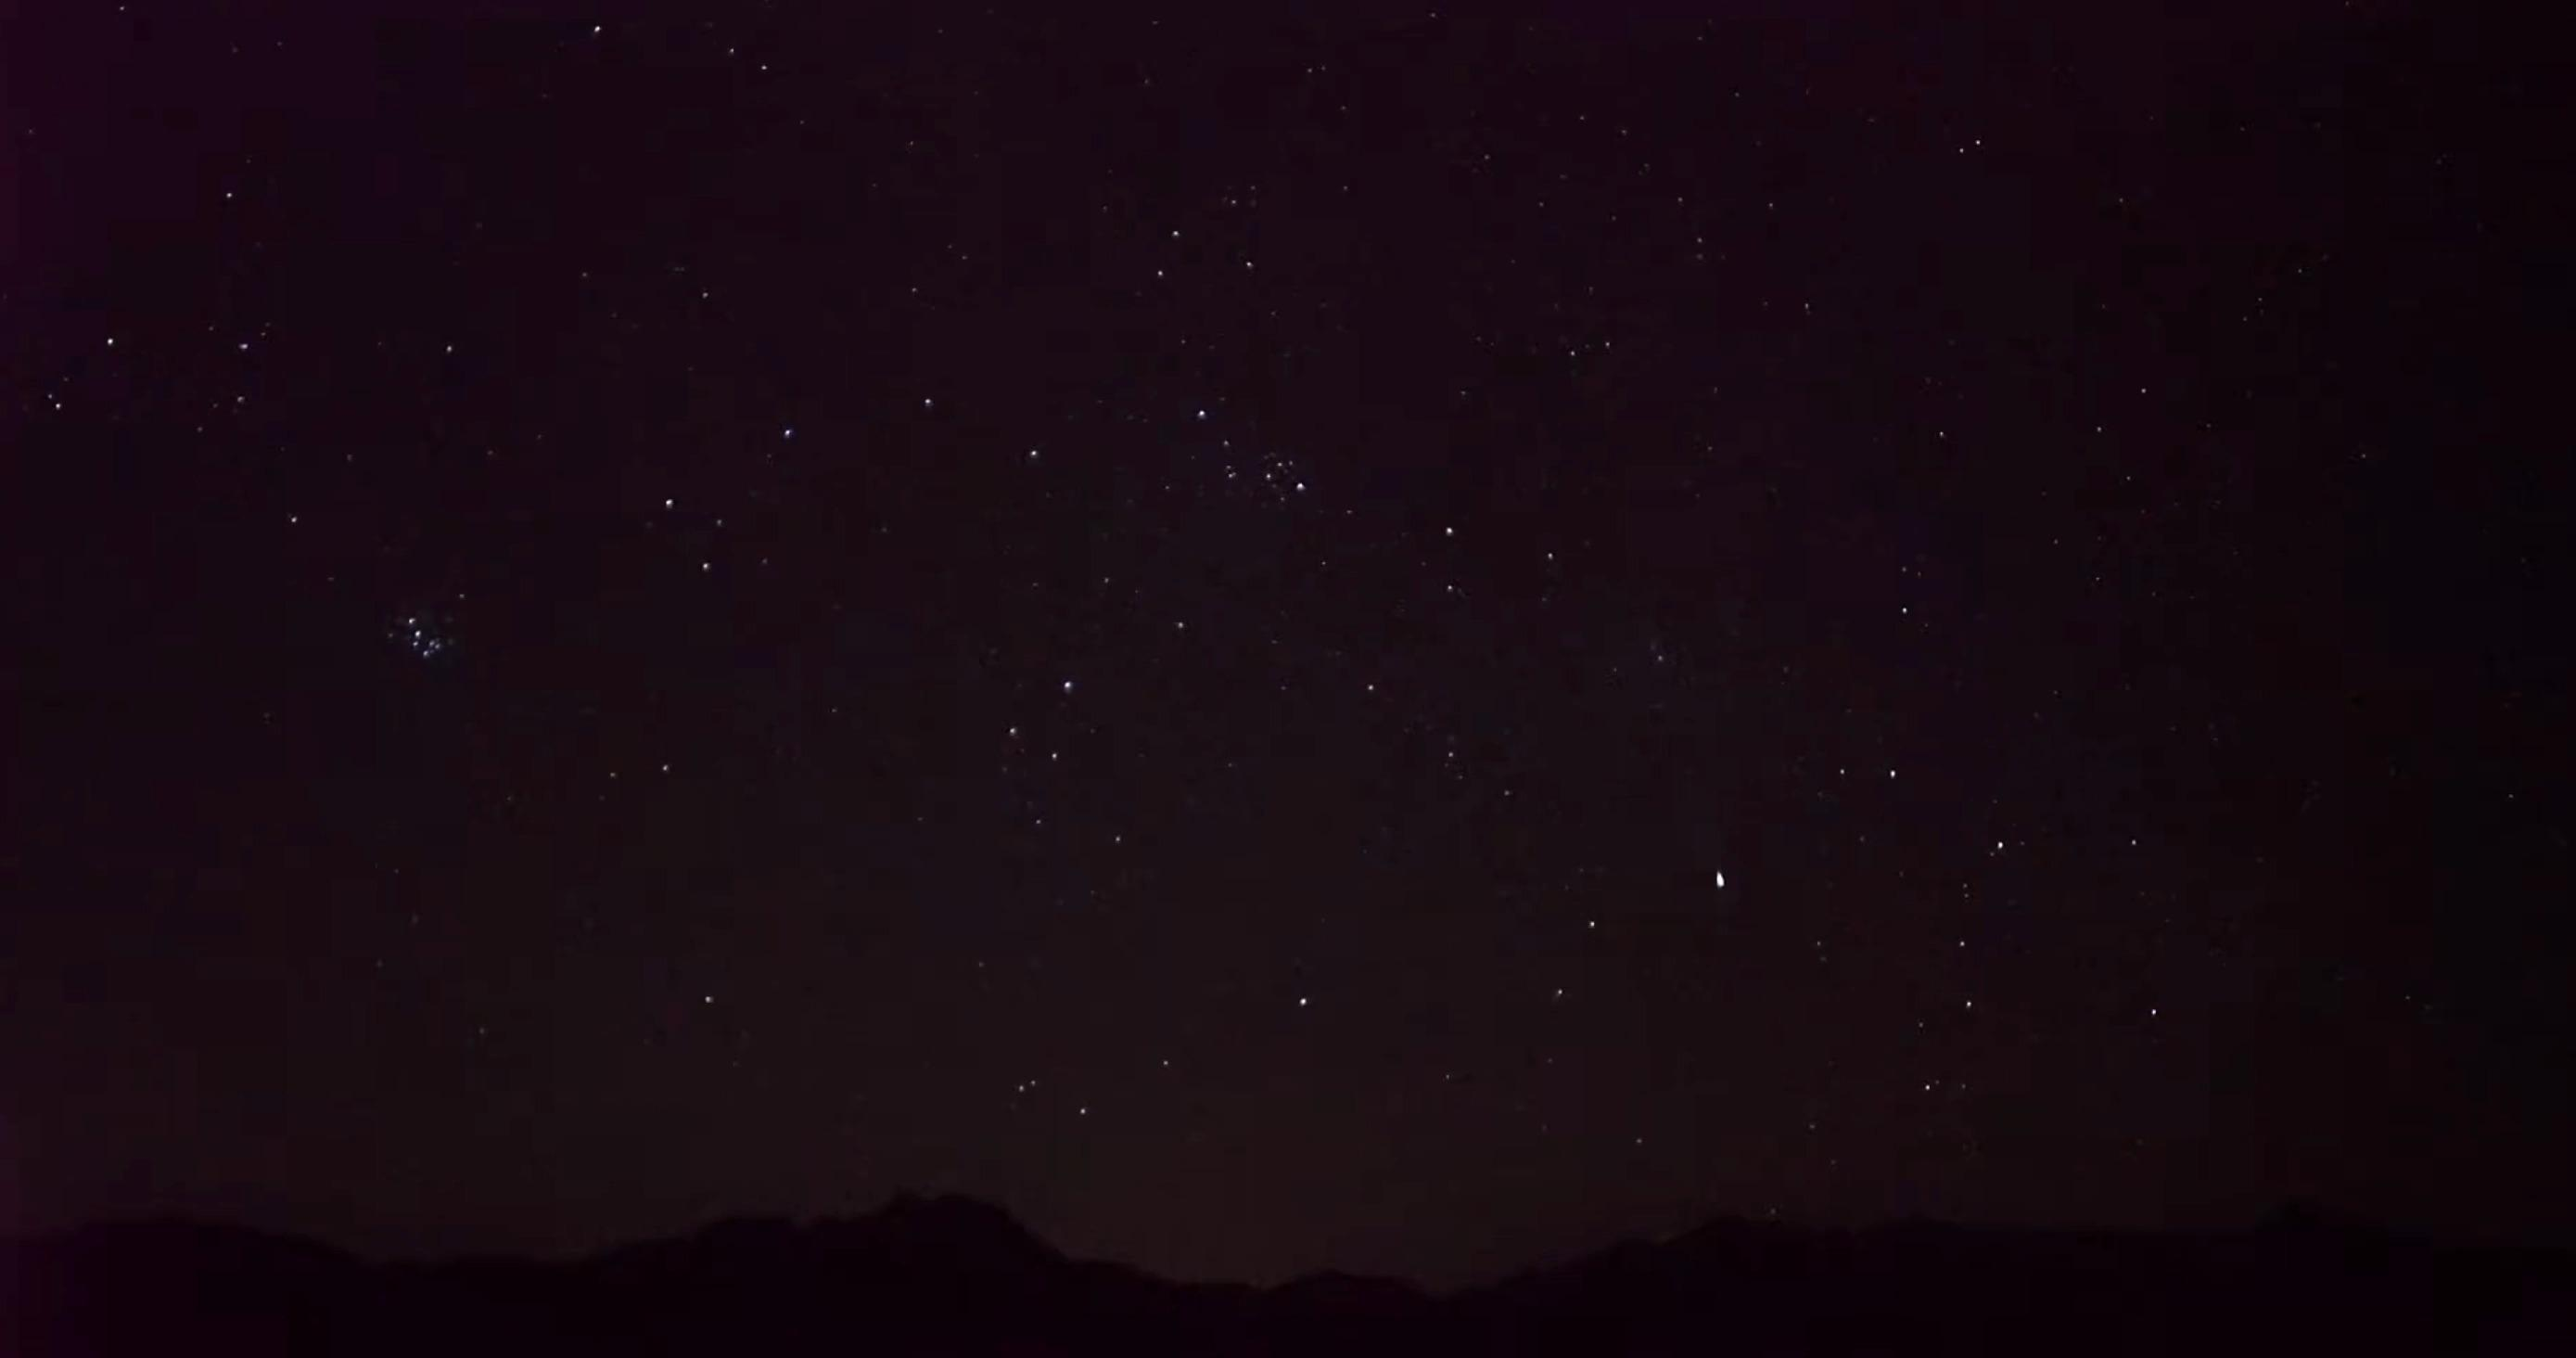meteorite: (1676, 855, 1765, 906)
